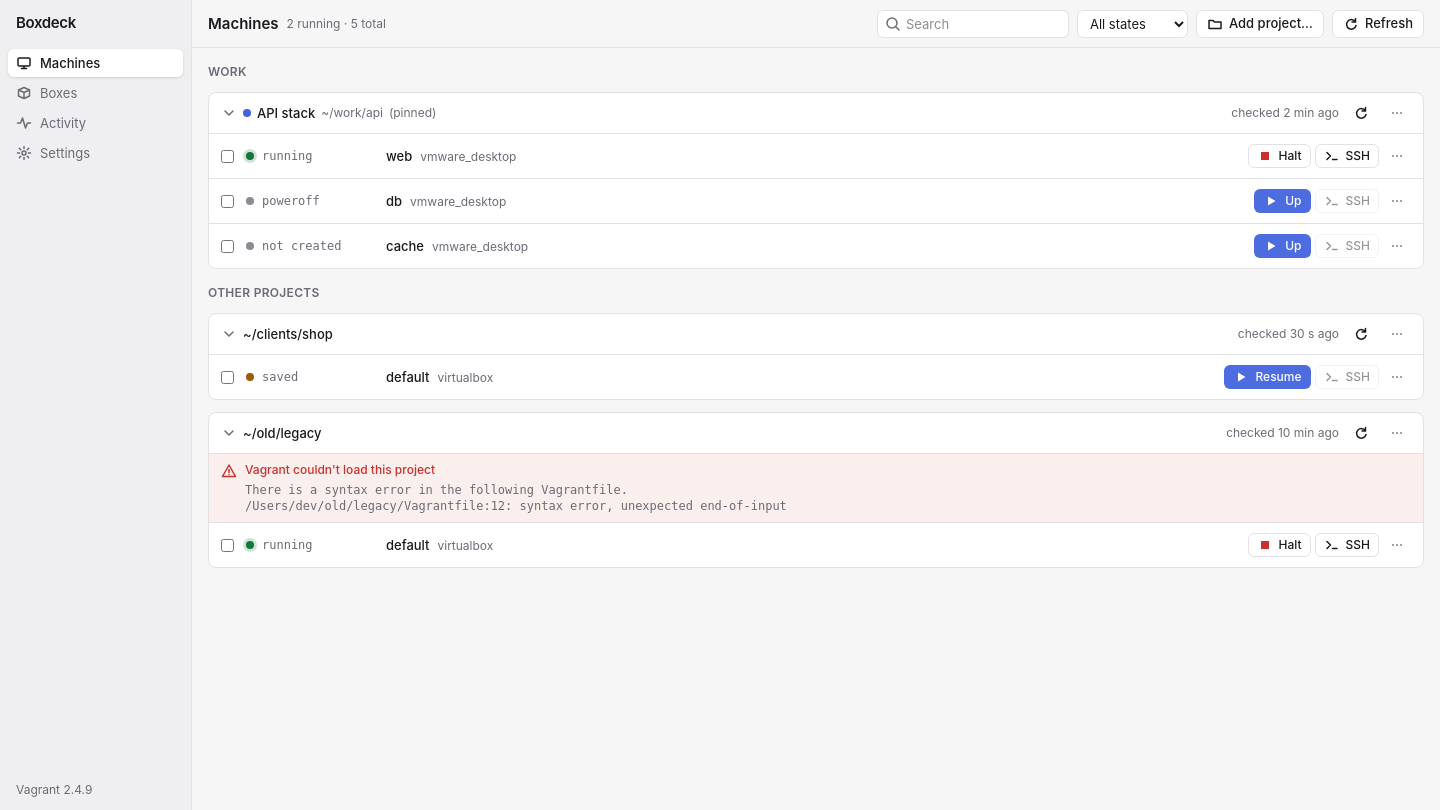
it: Configuration › adds a project folder from Machines
Expected: the text "API stack" is shown, [257,104,315,122]
Click the button "Add project…" at (1260, 24), box [1196,10,1324,38]
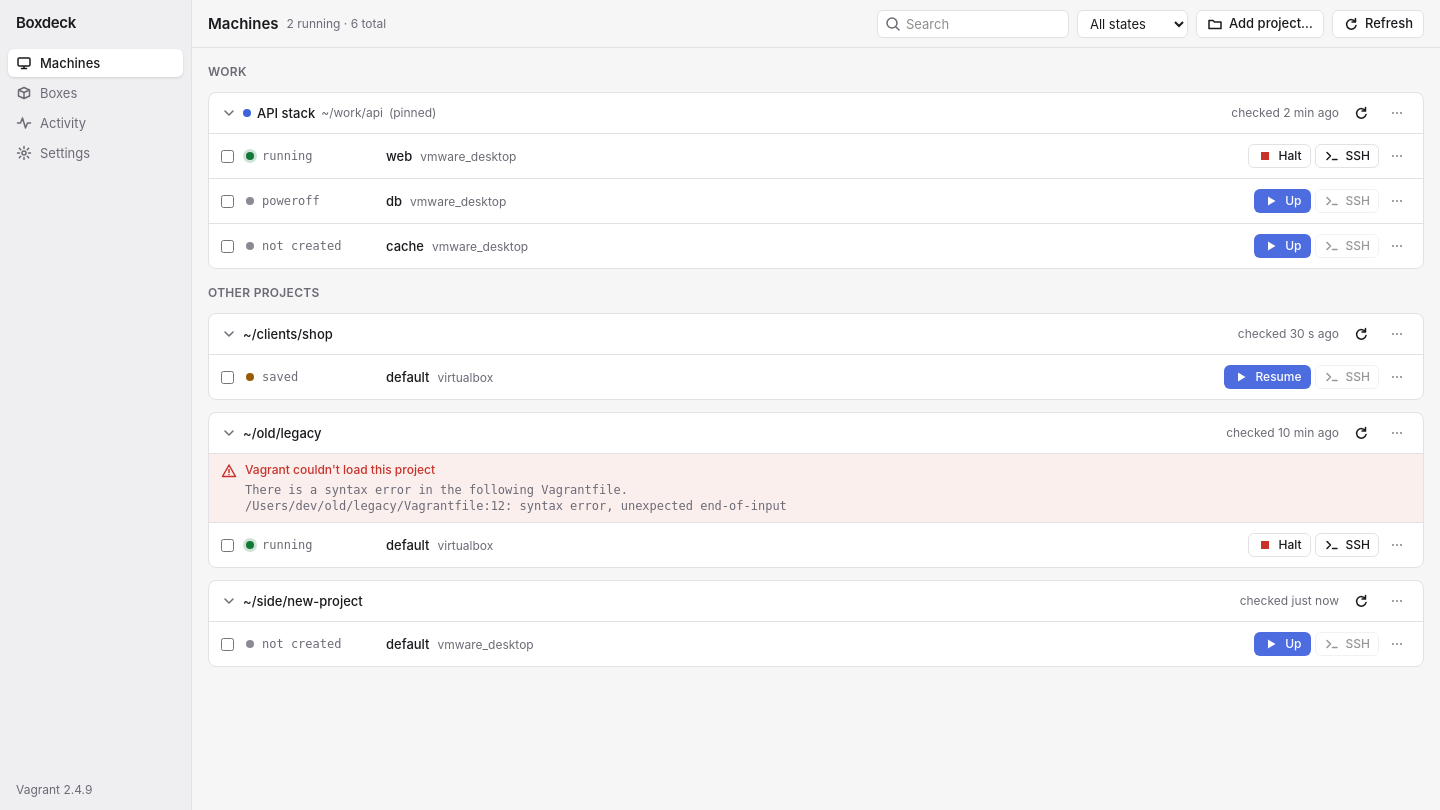
Expected: the text "~/side/new-project" is shown, [243,592,363,610]
